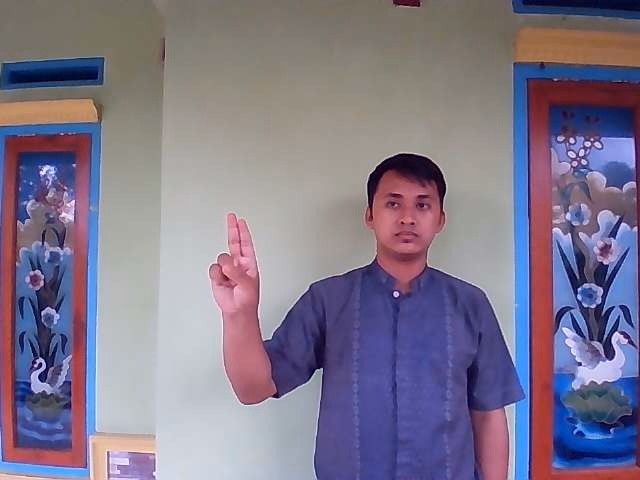U: (205, 212, 266, 325)
